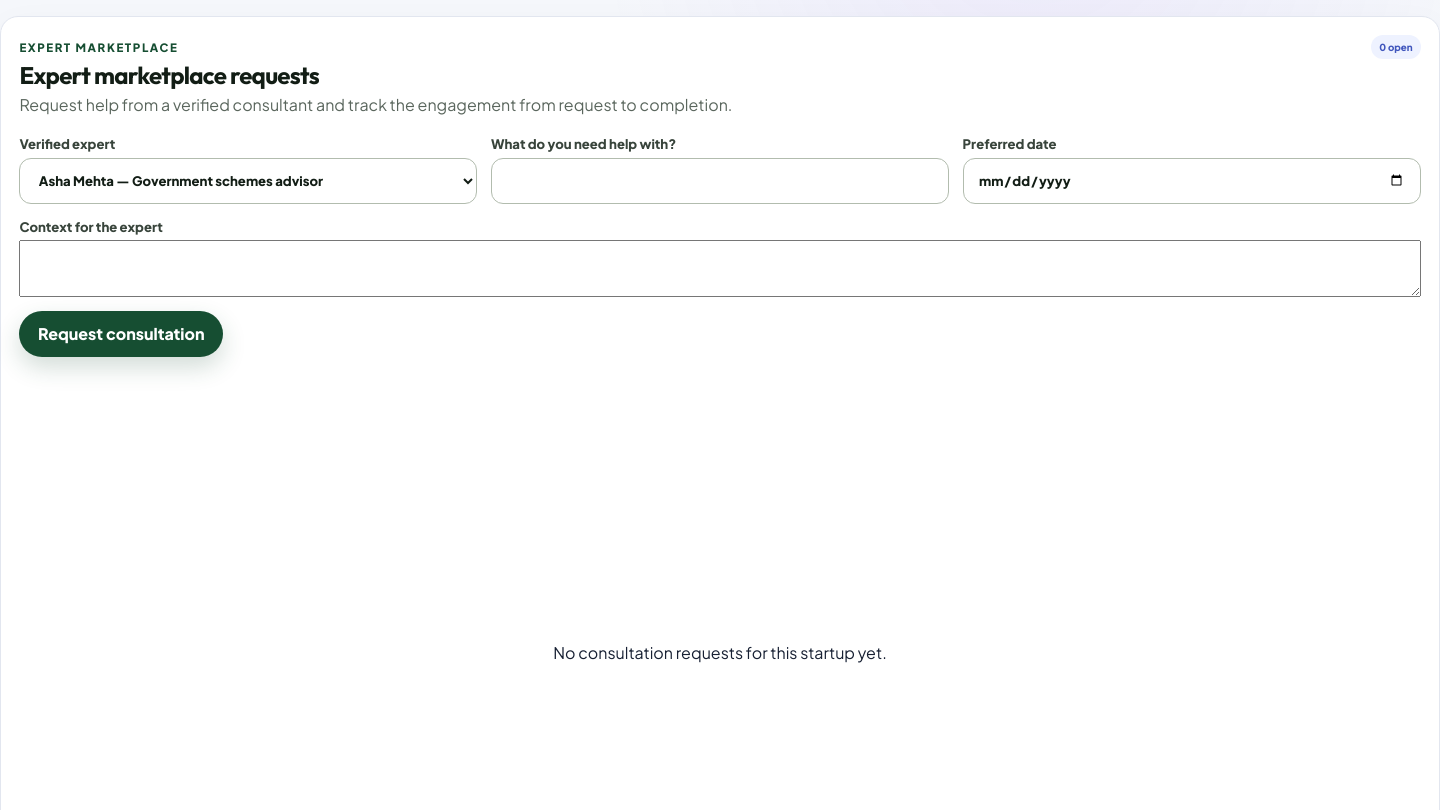
Test: ExpertMarketplaceRequestPanel › creates a consultation request for a verified expert
Expected: the heading "Expert marketplace requests" is shown, [19, 60, 319, 90]
In the field labelled "What do you need help with?": {"x": 720, "y": 181} [491, 158, 949, 204], type "DPIIT renewal"
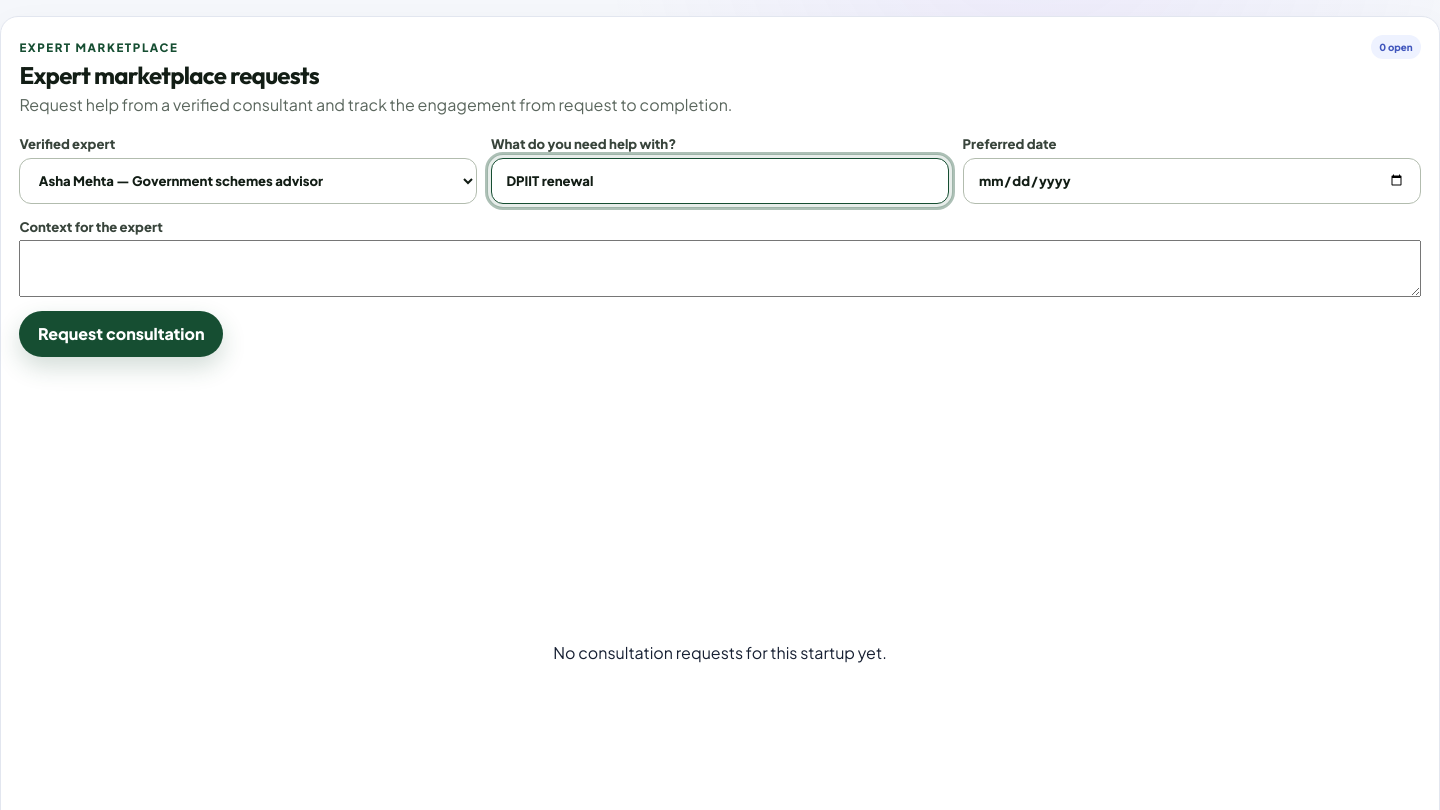
In the text box labelled "Context for the expert": {"x": 720, "y": 269} [19, 240, 1421, 297], type "Help us prepare the evidence."
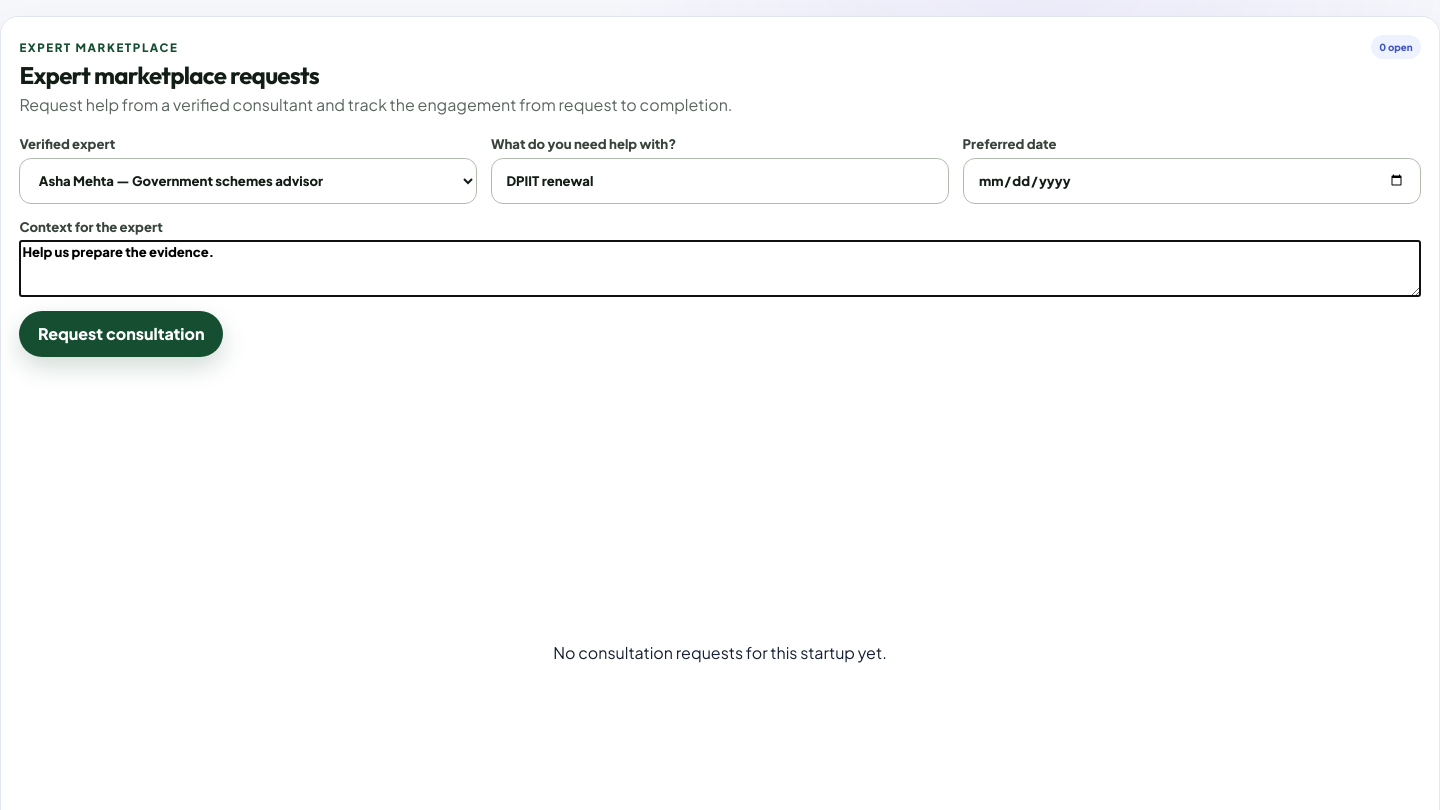
Click the button "Request consultation": {"x": 121, "y": 334} [19, 311, 223, 357]
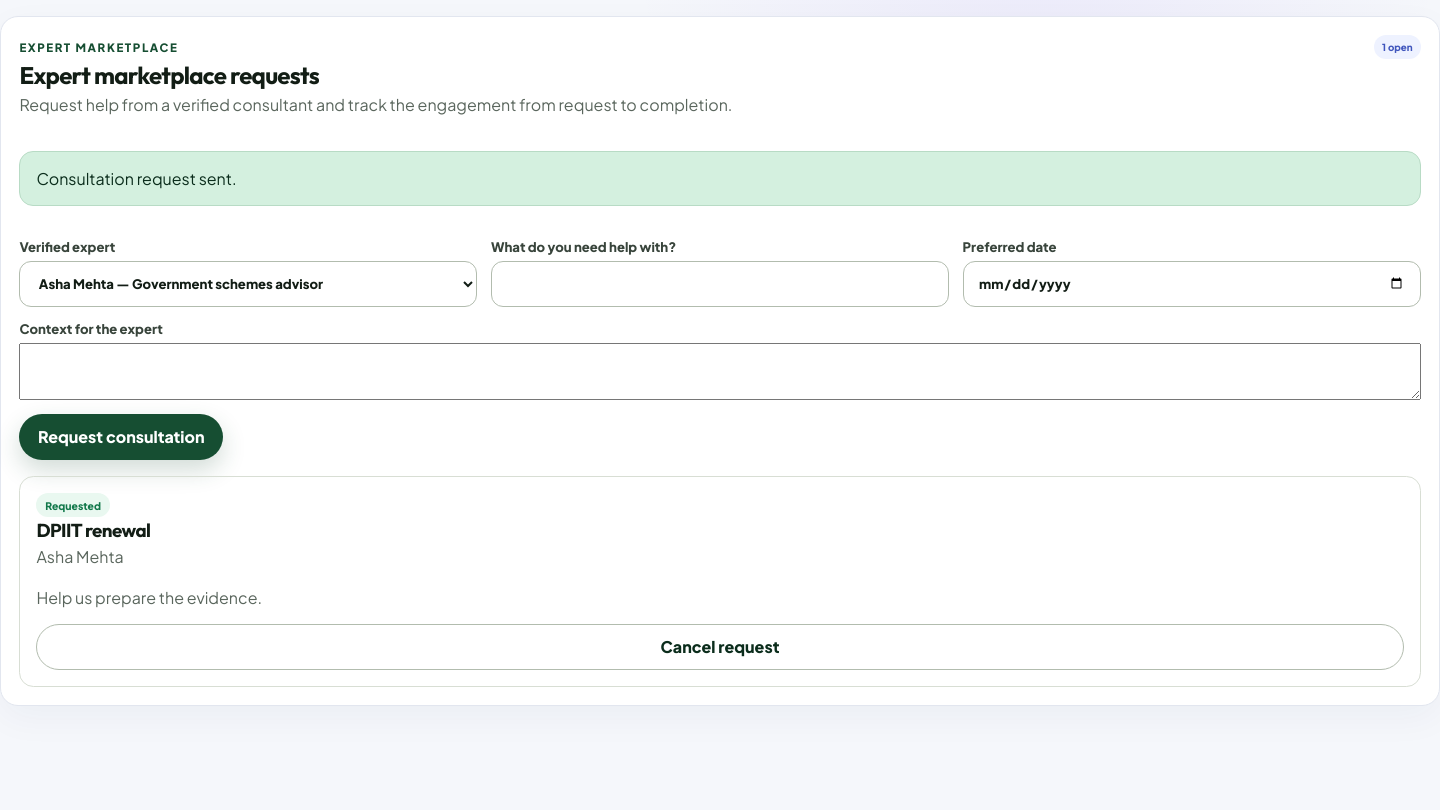
Now the text "Consultation request sent." is shown, box [19, 151, 1421, 206]
Now the text "Asha Mehta" is shown, box [36, 546, 124, 567]
